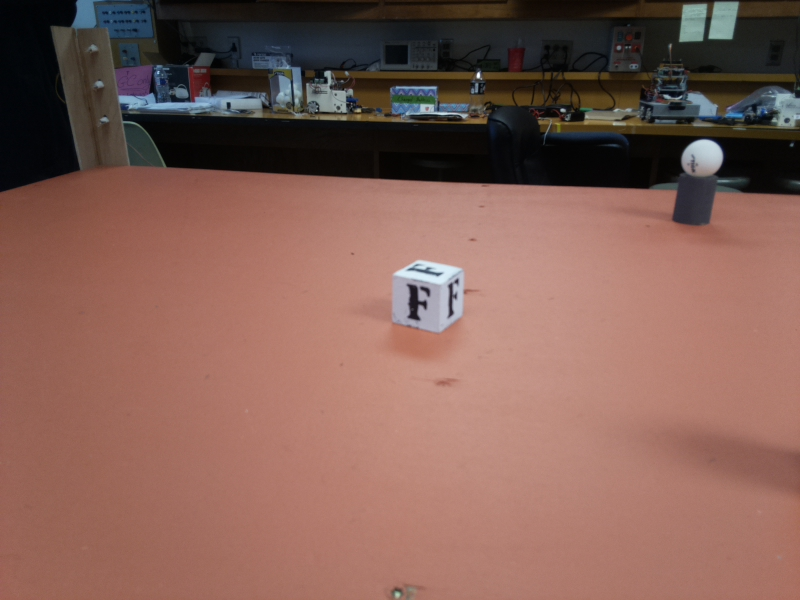blockF: (395, 261, 461, 333)
corner: (69, 26, 113, 175)
obstacle: (673, 140, 721, 229)
